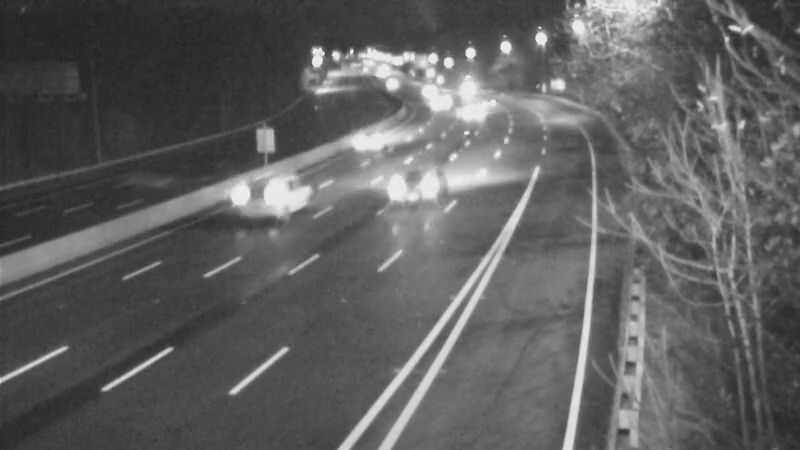vehicle: (387, 146, 467, 226), (223, 159, 303, 239), (364, 56, 414, 106), (404, 68, 454, 118), (444, 66, 494, 116), (413, 78, 463, 128), (463, 81, 513, 131), (445, 87, 495, 137), (341, 117, 391, 167)
